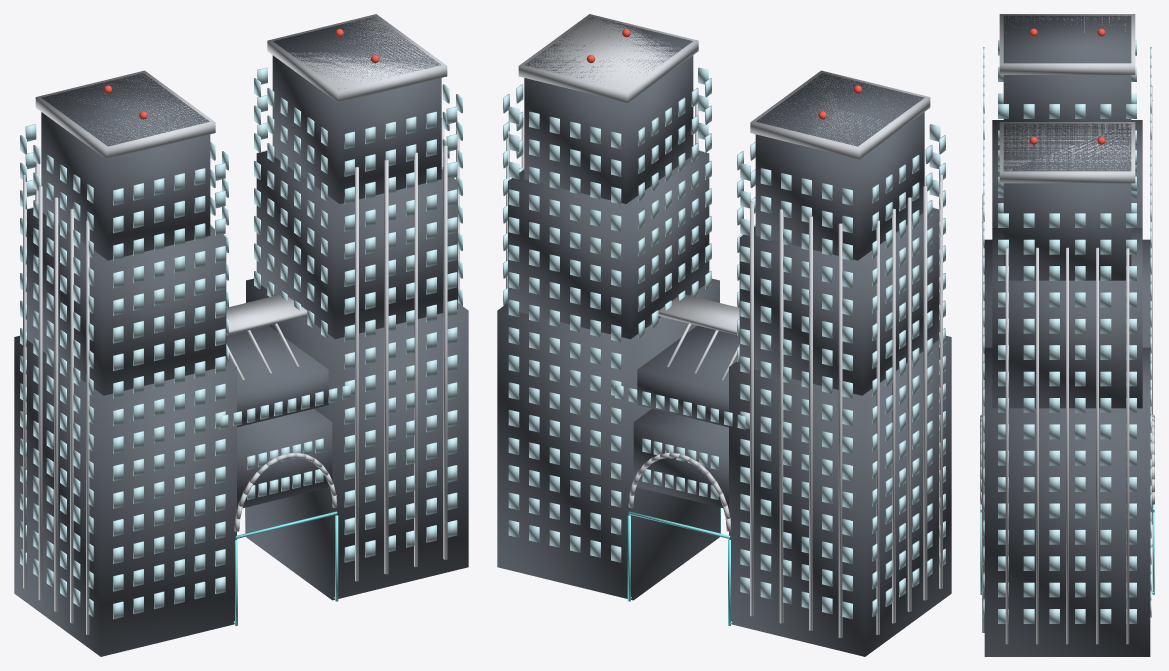
The model's file is city_gate.gltf.
The picture shows the model from 3 angles, left to right: view 1: azimuth 30°, elevation 25°; view 2: azimuth 150°, elevation 25°; view 3: azimuth 270°, elevation 25°; orthographic projection. The views are drawn at different scales.
Parts seen in each view (by area): view 1: Body, Windows, Trim, GateFrame; view 2: Body, Windows, Trim, GateFrame; view 3: Body, Windows, Trim, GateFrame.
Boxes of the visible parts, x1,y1,x2,y2 form: Body: (14, 16, 468, 656); Windows: (20, 67, 462, 619); Trim: (23, 14, 459, 635); GateFrame: (233, 507, 338, 625); Body: (497, 17, 951, 656); Windows: (503, 67, 945, 619); Trim: (506, 14, 942, 637); GateFrame: (627, 507, 732, 625); Body: (984, 15, 1150, 656); Windows: (983, 40, 1151, 623); Trim: (980, 14, 1154, 644); GateFrame: (980, 504, 1154, 594).
Bounding box in the file's own units: 54.71 × 71.55 × 23.24.
